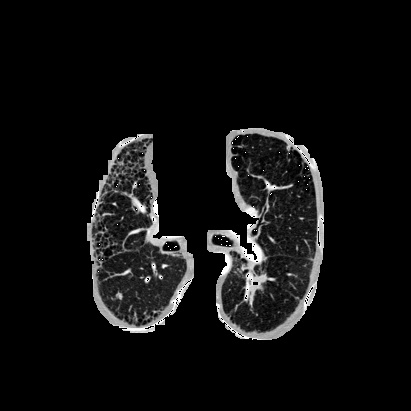PN: (116, 293, 122, 299)
